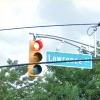traffic lights: (27, 35, 45, 78)
